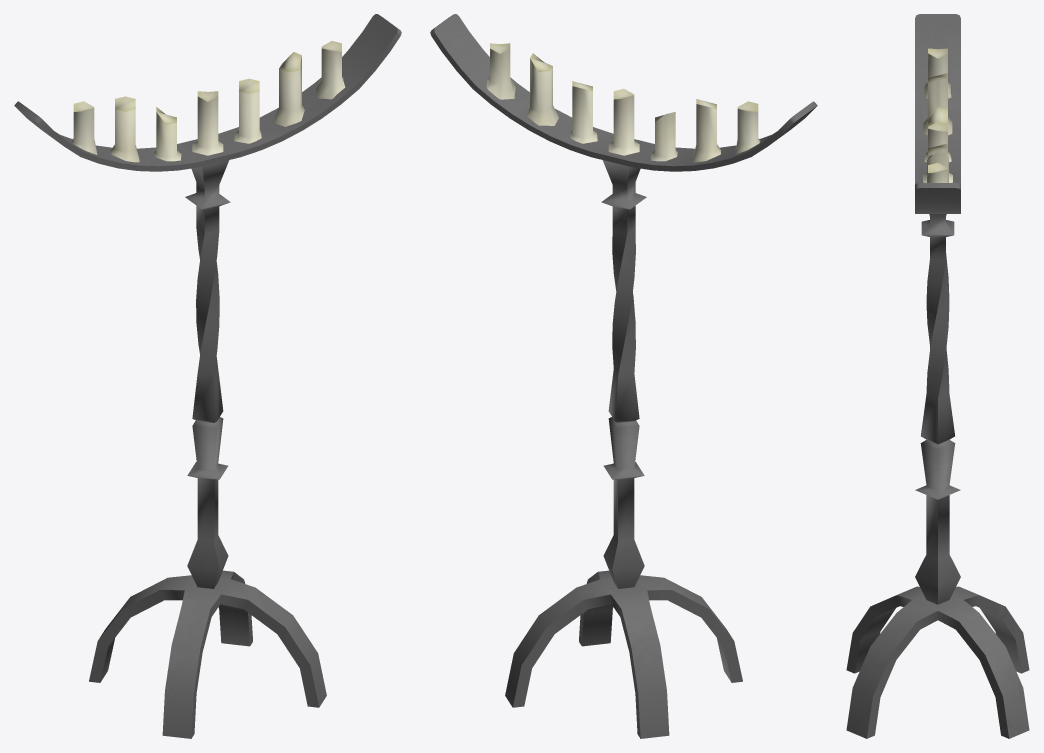
The model's file is Candelabrum.001.fbx.
The picture shows the model from 3 angles, left to right: view 1: azimuth 30°, elevation 25°; view 2: azimuth 150°, elevation 25°; view 3: azimuth 270°, elevation 25°; orthographic projection. The views are drawn at different scales.
Parts seen in each view (by area): view 1: Candelabrum.001; view 2: Candelabrum.001; view 3: Candelabrum.001.
Boxes of the visible parts, x1,y1,x2,y2 form: Candelabrum.001: (14,14,401,738); Candelabrum.001: (430,14,817,738); Candelabrum.001: (846,14,1029,738).
Bounding box in the file's own units: 133 × 216 × 59.66.
